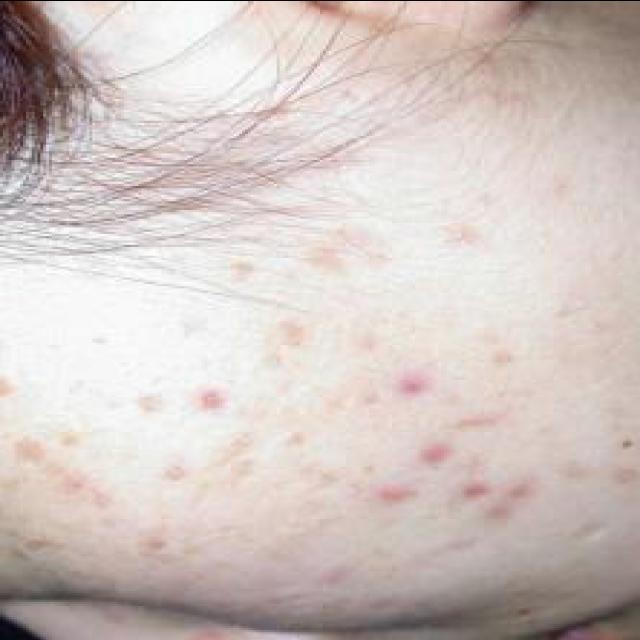Acne: (407, 436, 459, 472), (392, 366, 432, 408), (186, 383, 232, 416), (366, 478, 418, 507), (452, 476, 494, 502)
